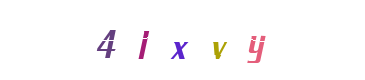4: (81, 0, 161, 80)
L: (139, 0, 219, 80)
V: (178, 0, 258, 80)
X: (142, 0, 222, 80)
Y: (191, 0, 271, 80)
